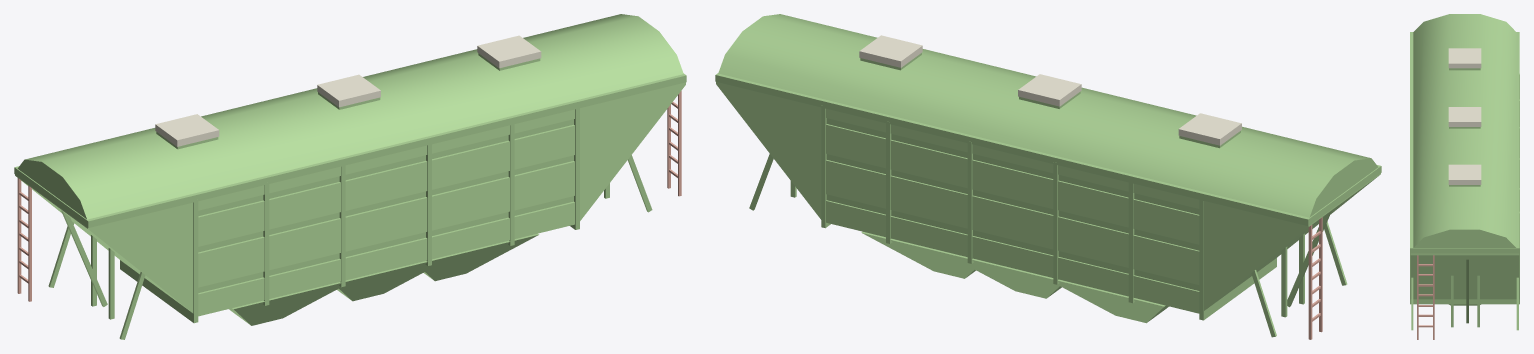
File: props40.fbx
The picture shows the model from 3 angles, left to right: view 1: azimuth 30°, elevation 25°; view 2: azimuth 150°, elevation 25°; view 3: azimuth 270°, elevation 25°; orthographic projection. The views are drawn at different scales.
Parts seen in each view (by area): view 1: Cube_6; view 2: Cube_6; view 3: Cube_6.
Boxes of the visible parts, <box> form: Cube_6: <box>14,14,686,339</box>; Cube_6: <box>715,14,1381,339</box>; Cube_6: <box>1410,14,1519,339</box>.
Size of the model in its own units: 1523 by 499 by 326.
